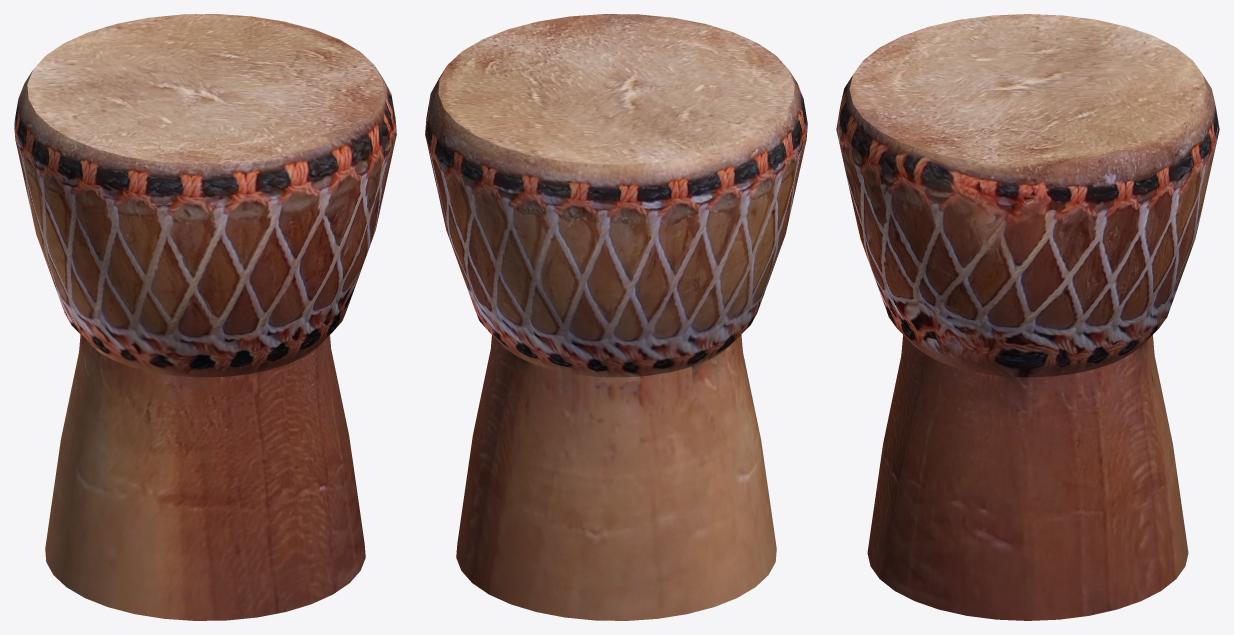
Rendered from Drum.fbx.
3 views of the same model, side by side, from view 1: azimuth 30°, elevation 25°; view 2: azimuth 150°, elevation 25°; view 3: azimuth 270°, elevation 25° (orthographic).
Visible parts, largest first — view 1: Circle; view 2: Circle; view 3: Circle.
Part boxes in pixels (x1,y1,x2,y2): Circle: (14,14,396,620); Circle: (425,14,807,620); Circle: (836,14,1219,620).
Bounding box in the file's own units: 35.19 × 46.97 × 35.19.
2 materials, 1 textured.
